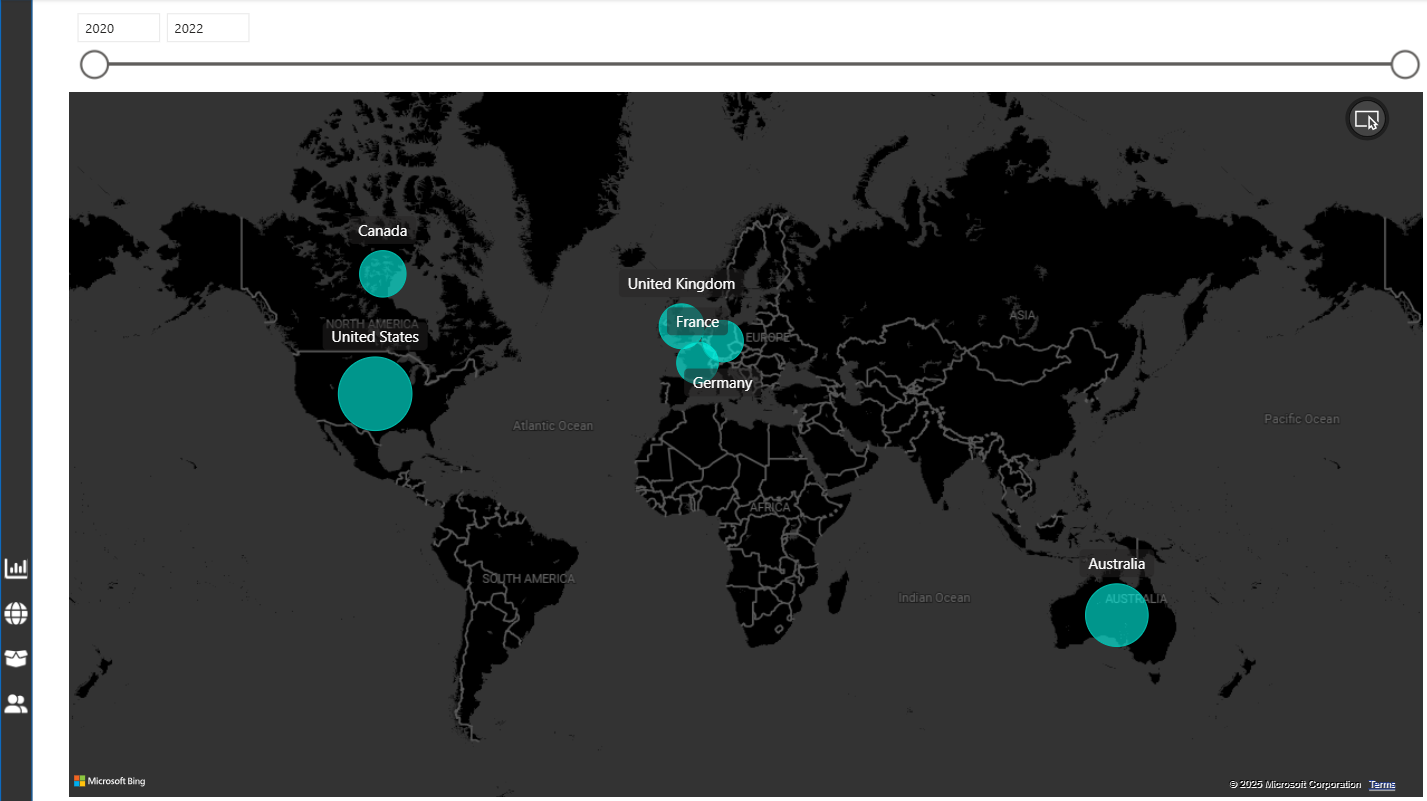

What the dashboard file says about the page in this screenshot:
{"tool":"powerbi","page":{"name":"Map","canvas":[1280,720],"ordinal":1},"visuals":[{"type":"shape","box":[0,0,29.1,720],"z":0},{"type":"actionButton","box":[0,489.9,28.7,40.3],"z":0,"group":"g1"},{"type":"actionButton","box":[0,530.2,28.7,40.3],"z":1000,"group":"g1"},{"type":"map","fields":{"Category":["Territory Lookup.Country"],"Size":["Measure Table.Total orders"]},"box":[56.4,77.9,1223.3,642.1],"z":1000},{"type":"slicer","fields":{"Values":["Calendar Lookup.Year"]},"box":[56.4,2.7,1223.3,75.2],"z":2000},{"type":"actionButton","box":[0,570.5,28.7,40.3],"z":2000,"group":"g1"},{"type":"actionButton","box":[0,610.8,28.7,40.3],"z":3000,"group":"g1"},{"type":"group","id":"g1","title":"Navigation buttons","box":[0,489.9,28.7,161.2],"z":3000}]}

Visuals, with their boxes in screenshot pixels (x1, y1, x2, y2):
shape: 0, 4, 32, 795
actionButton: 0, 542, 32, 587
actionButton: 0, 587, 32, 631
map - Territory Lookup.Country x Measure Table.Total orders: 62, 89, 1407, 795
slicer - Calendar Lookup.Year: 62, 7, 1407, 89
actionButton: 0, 631, 32, 675
actionButton: 0, 675, 32, 719
"Navigation buttons" group: 0, 542, 32, 719
